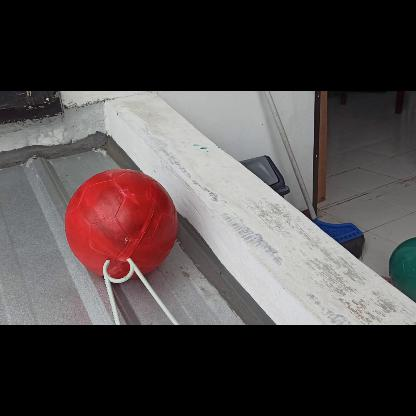red_ball: (66, 168, 178, 282)
